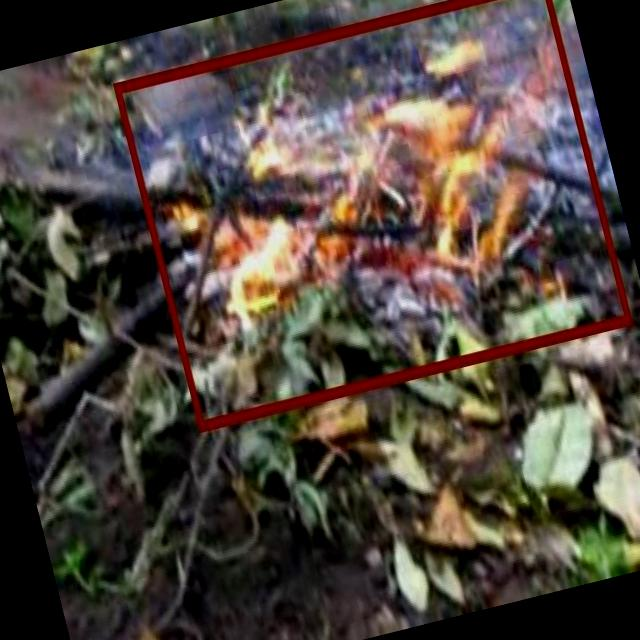fire: (115, 0, 633, 428)
